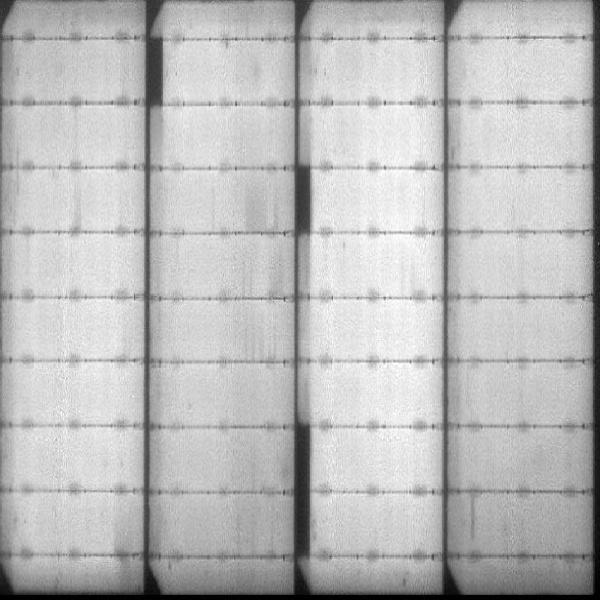black_border: (291, 418, 314, 558), (142, 34, 167, 117), (292, 163, 313, 243)
